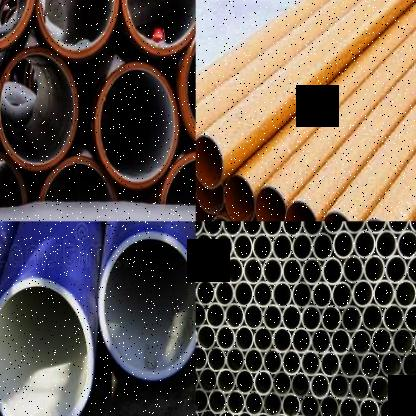pipe: (97, 230, 196, 381), (0, 276, 93, 416), (95, 62, 179, 190), (0, 47, 78, 170), (34, 0, 119, 59), (121, 0, 196, 55), (0, 149, 27, 207), (224, 174, 256, 221), (196, 135, 223, 190), (196, 174, 223, 215), (255, 186, 286, 221), (375, 229, 398, 259), (285, 201, 319, 221), (342, 254, 364, 284), (385, 254, 407, 284), (354, 229, 376, 259), (373, 279, 395, 308), (352, 279, 374, 308), (394, 279, 416, 308), (331, 280, 353, 309), (350, 327, 372, 356), (333, 230, 355, 259), (364, 254, 385, 284), (322, 256, 343, 286), (369, 375, 391, 403), (362, 303, 383, 332), (392, 327, 413, 356), (390, 374, 411, 403), (292, 232, 313, 261), (396, 229, 416, 259), (262, 257, 283, 285), (302, 257, 323, 285), (311, 281, 332, 309), (301, 304, 322, 332), (321, 304, 342, 332), (310, 327, 331, 355), (371, 327, 392, 355), (300, 349, 321, 377), (381, 351, 402, 379), (329, 373, 350, 401), (349, 374, 370, 402), (252, 233, 273, 261), (272, 233, 293, 261), (243, 256, 263, 285), (313, 232, 333, 261), (272, 281, 293, 308), (281, 304, 302, 331), (383, 304, 404, 331), (341, 305, 362, 332), (330, 328, 351, 355), (320, 350, 341, 377), (360, 352, 381, 379), (282, 257, 302, 285), (253, 280, 273, 308), (340, 351, 360, 379), (234, 280, 254, 307), (292, 281, 312, 308), (291, 327, 311, 354), (272, 370, 292, 397), (233, 233, 253, 260), (224, 256, 243, 284), (215, 279, 234, 307), (263, 303, 282, 331), (310, 373, 330, 399), (205, 256, 224, 283), (196, 279, 215, 306), (225, 302, 244, 329), (244, 303, 263, 330), (197, 323, 216, 350), (235, 325, 254, 352), (273, 326, 292, 353), (235, 368, 254, 395), (254, 369, 273, 396), (291, 371, 310, 398), (214, 233, 233, 260), (206, 302, 225, 328), (254, 326, 273, 352), (207, 346, 226, 372), (244, 347, 263, 373), (263, 348, 282, 374), (282, 349, 301, 375), (226, 389, 245, 415), (226, 346, 244, 373), (216, 325, 235, 350), (263, 391, 282, 416), (245, 390, 263, 416), (300, 393, 320, 416), (196, 232, 213, 259), (281, 392, 300, 416), (199, 367, 217, 392), (217, 368, 235, 393), (208, 389, 226, 414), (400, 351, 416, 379), (319, 394, 339, 416), (338, 395, 358, 416), (358, 396, 379, 416), (378, 397, 399, 416), (403, 303, 416, 331), (196, 198, 211, 221), (302, 221, 323, 237), (261, 221, 282, 237), (399, 397, 416, 416), (222, 221, 242, 237), (196, 387, 208, 413), (242, 221, 261, 237), (406, 254, 416, 284), (282, 221, 302, 236), (386, 221, 409, 234), (196, 344, 207, 371), (344, 221, 366, 234), (203, 221, 222, 236), (365, 221, 386, 234), (323, 221, 344, 234), (196, 301, 206, 328), (196, 255, 204, 283), (411, 375, 416, 403), (199, 409, 217, 416), (217, 410, 236, 416), (254, 411, 273, 416), (409, 221, 416, 234), (236, 411, 254, 416), (413, 328, 416, 355), (272, 412, 291, 416), (290, 413, 309, 416)
